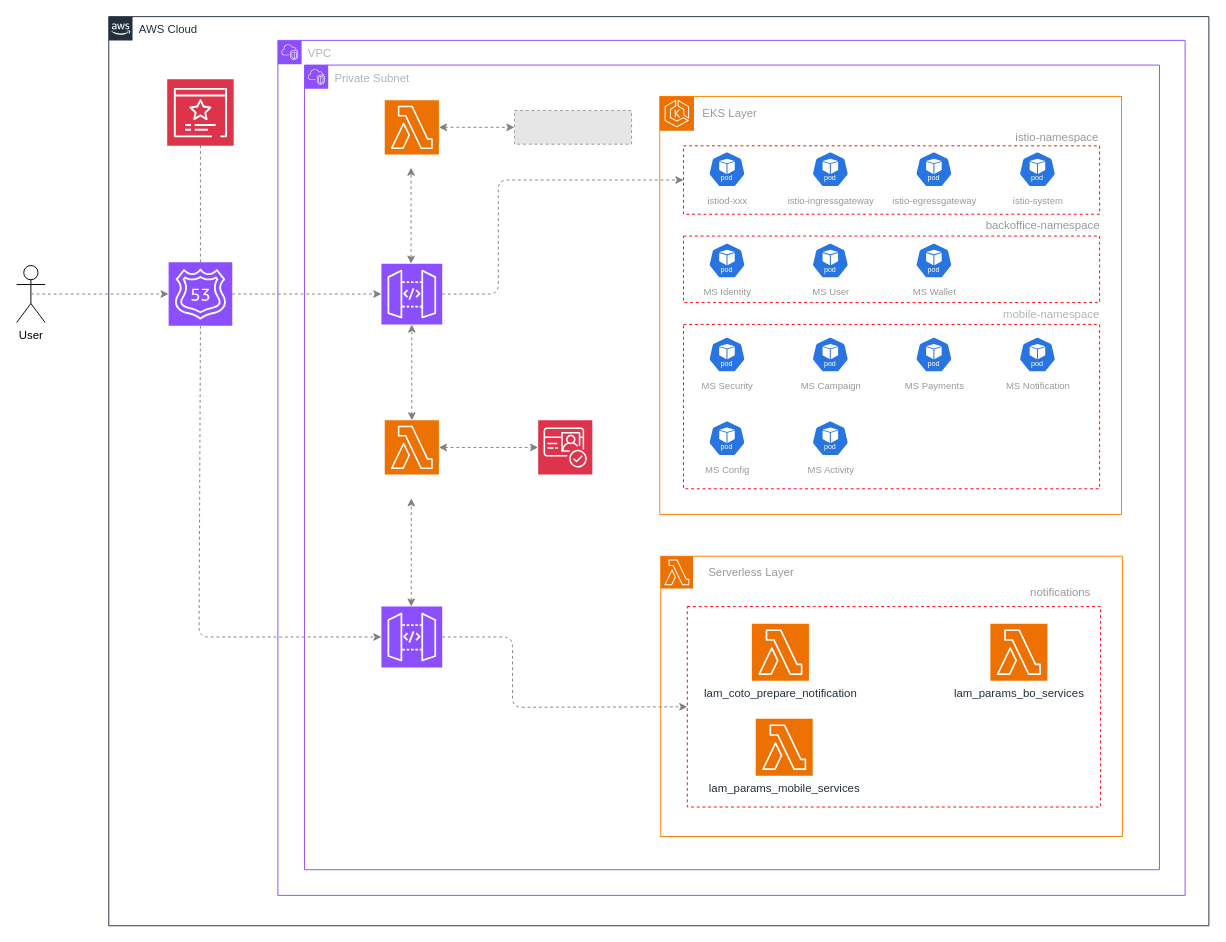
The diagram is 1226 pixels wide and 942 high, and some of its shapes have lost their labels. Grey dashed boxes stand in for pictures. Each missing label, with the centre of its shape:
"apg-microservices" goes at [411,293].
"apg-serverless" goes at [411,636].
"Certificate Manager" goes at [200,112].
"Cognito" goes at [564,447].
"lambda-cognito-authorizer" goes at [411,447].
"lambda-keycloack-authorizer" goes at [411,126].
"Route53" goes at [200,293].
